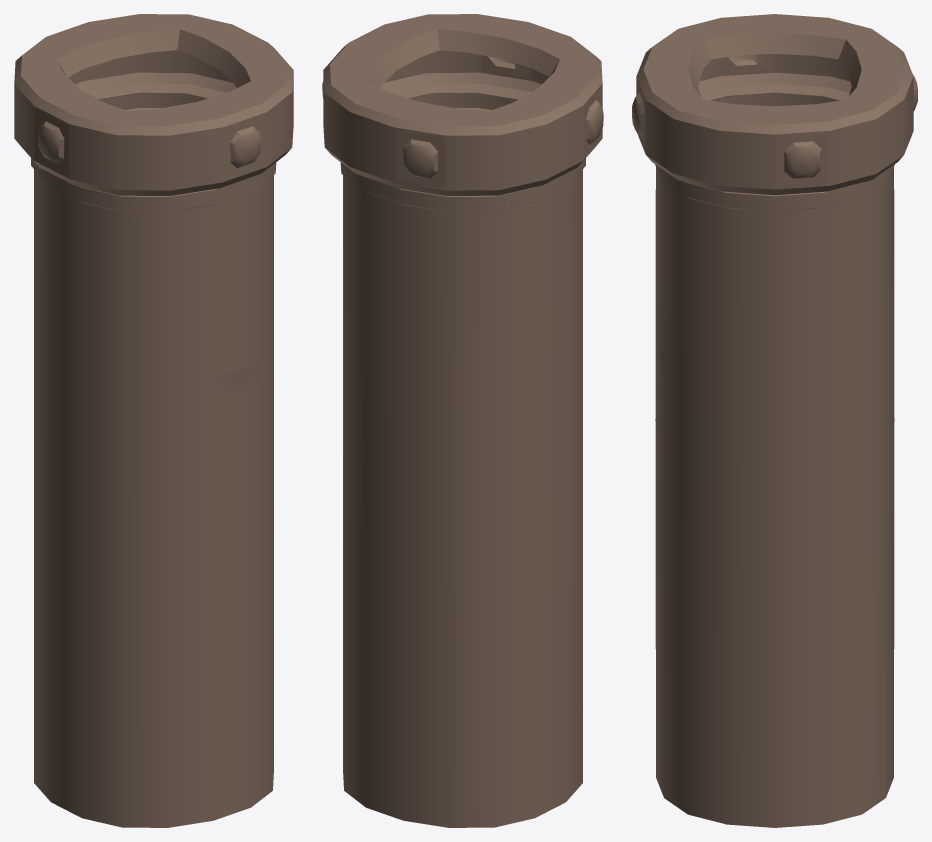
The model's file is pipe_thin.fbx.
3 views of the same model, side by side, from view 1: azimuth 30°, elevation 25°; view 2: azimuth 150°, elevation 25°; view 3: azimuth 270°, elevation 25° (orthographic).
Parts seen in each view (by area): view 1: thin_pipe; view 2: thin_pipe; view 3: thin_pipe.
Boxes of the visible parts, x1=… form: thin_pipe: x1=14, y1=14, x2=293, y2=827; thin_pipe: x1=322, y1=14, x2=603, y2=827; thin_pipe: x1=632, y1=14, x2=917, y2=827.
Size of the model in its own units: 14.42 by 39.39 by 14.42.
